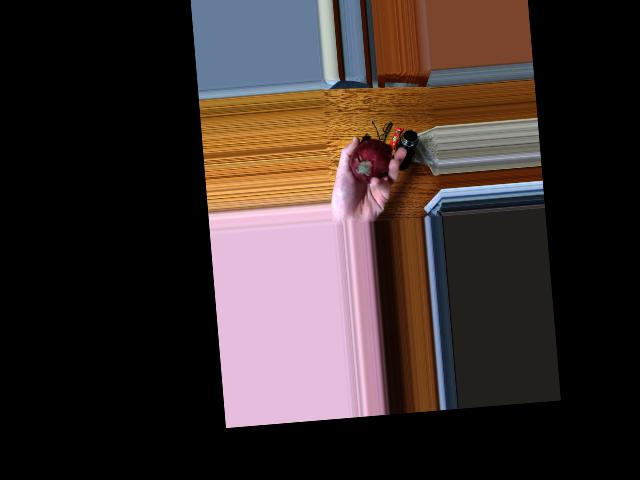onion: (349, 140, 387, 183)
